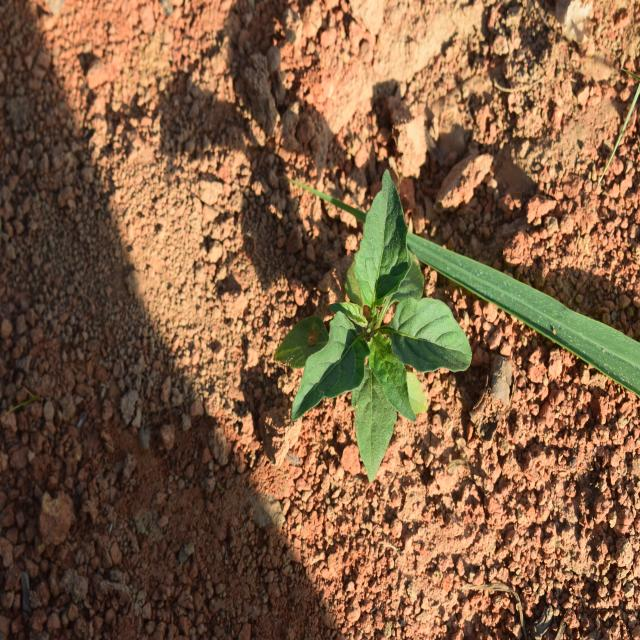Black_nightshade: (276, 166, 465, 486)
